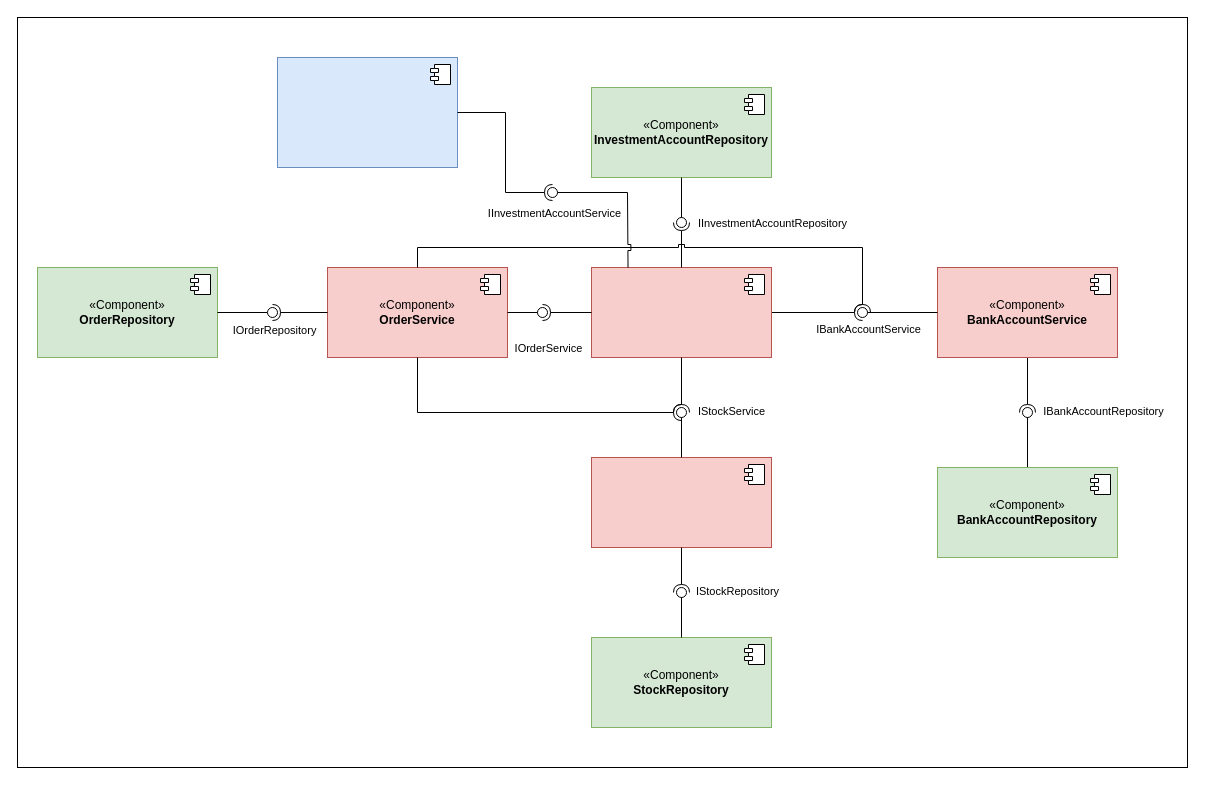
Image size: 1205x785. Some labels were removed from this diagram. The centre of each missing label's shape, as x and y in pixels:
«Component» InvestmentAccountController: the point at 367,112
«Component» InvestmentAccountService: the point at 681,312
«Component» StockService: the point at 681,502
